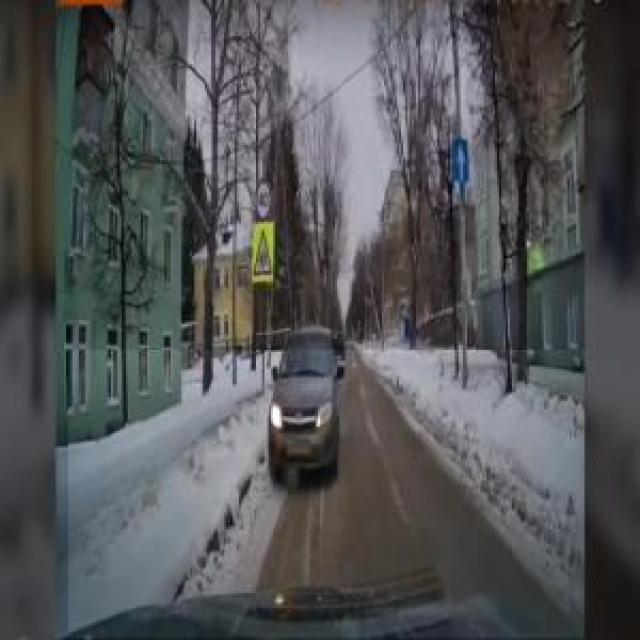ice-road: (73, 352, 585, 638)
